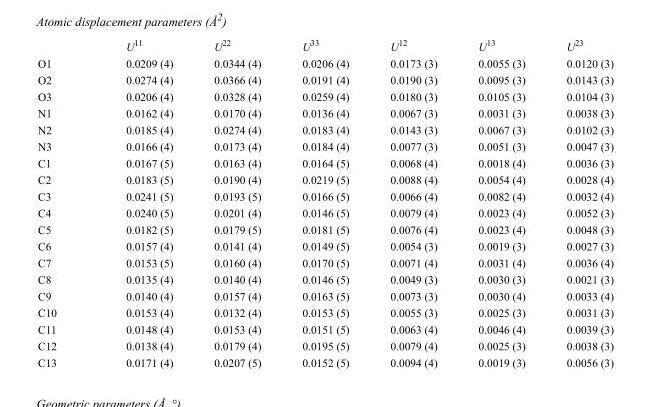table: (37, 37, 612, 368)
table column: (90, 37, 192, 368), (280, 37, 369, 368), (192, 37, 280, 368), (369, 37, 457, 368), (457, 37, 545, 368), (545, 37, 612, 368), (37, 37, 90, 368)
table column header: (37, 37, 612, 54)
table row: (37, 37, 612, 54), (37, 54, 612, 71), (37, 87, 612, 104), (37, 104, 612, 121), (37, 137, 612, 154), (37, 170, 612, 187), (37, 187, 612, 204), (37, 220, 612, 237), (37, 237, 612, 254), (37, 270, 612, 287), (37, 303, 612, 320), (37, 320, 612, 337), (37, 71, 612, 87), (37, 121, 612, 137), (37, 154, 612, 170), (37, 204, 612, 220), (37, 254, 612, 270), (37, 287, 612, 303), (37, 337, 612, 353), (37, 353, 612, 368)
